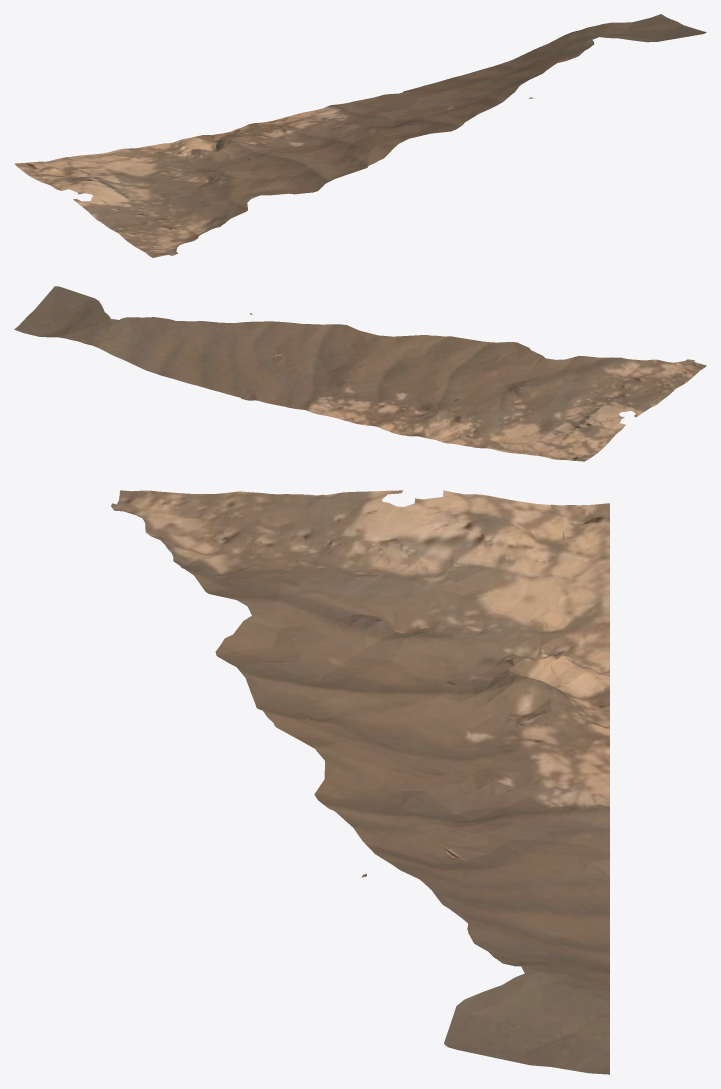
3 views of the same model, one above another, from view 1: azimuth 30°, elevation 25°; view 2: azimuth 150°, elevation 25°; view 3: azimuth 270°, elevation 25° (orthographic). The views are drawn at different scales.
Size of the model in its own units: 1.04 by 0.0481 by 0.3954.
Materials: 1 (1 with a texture image).
